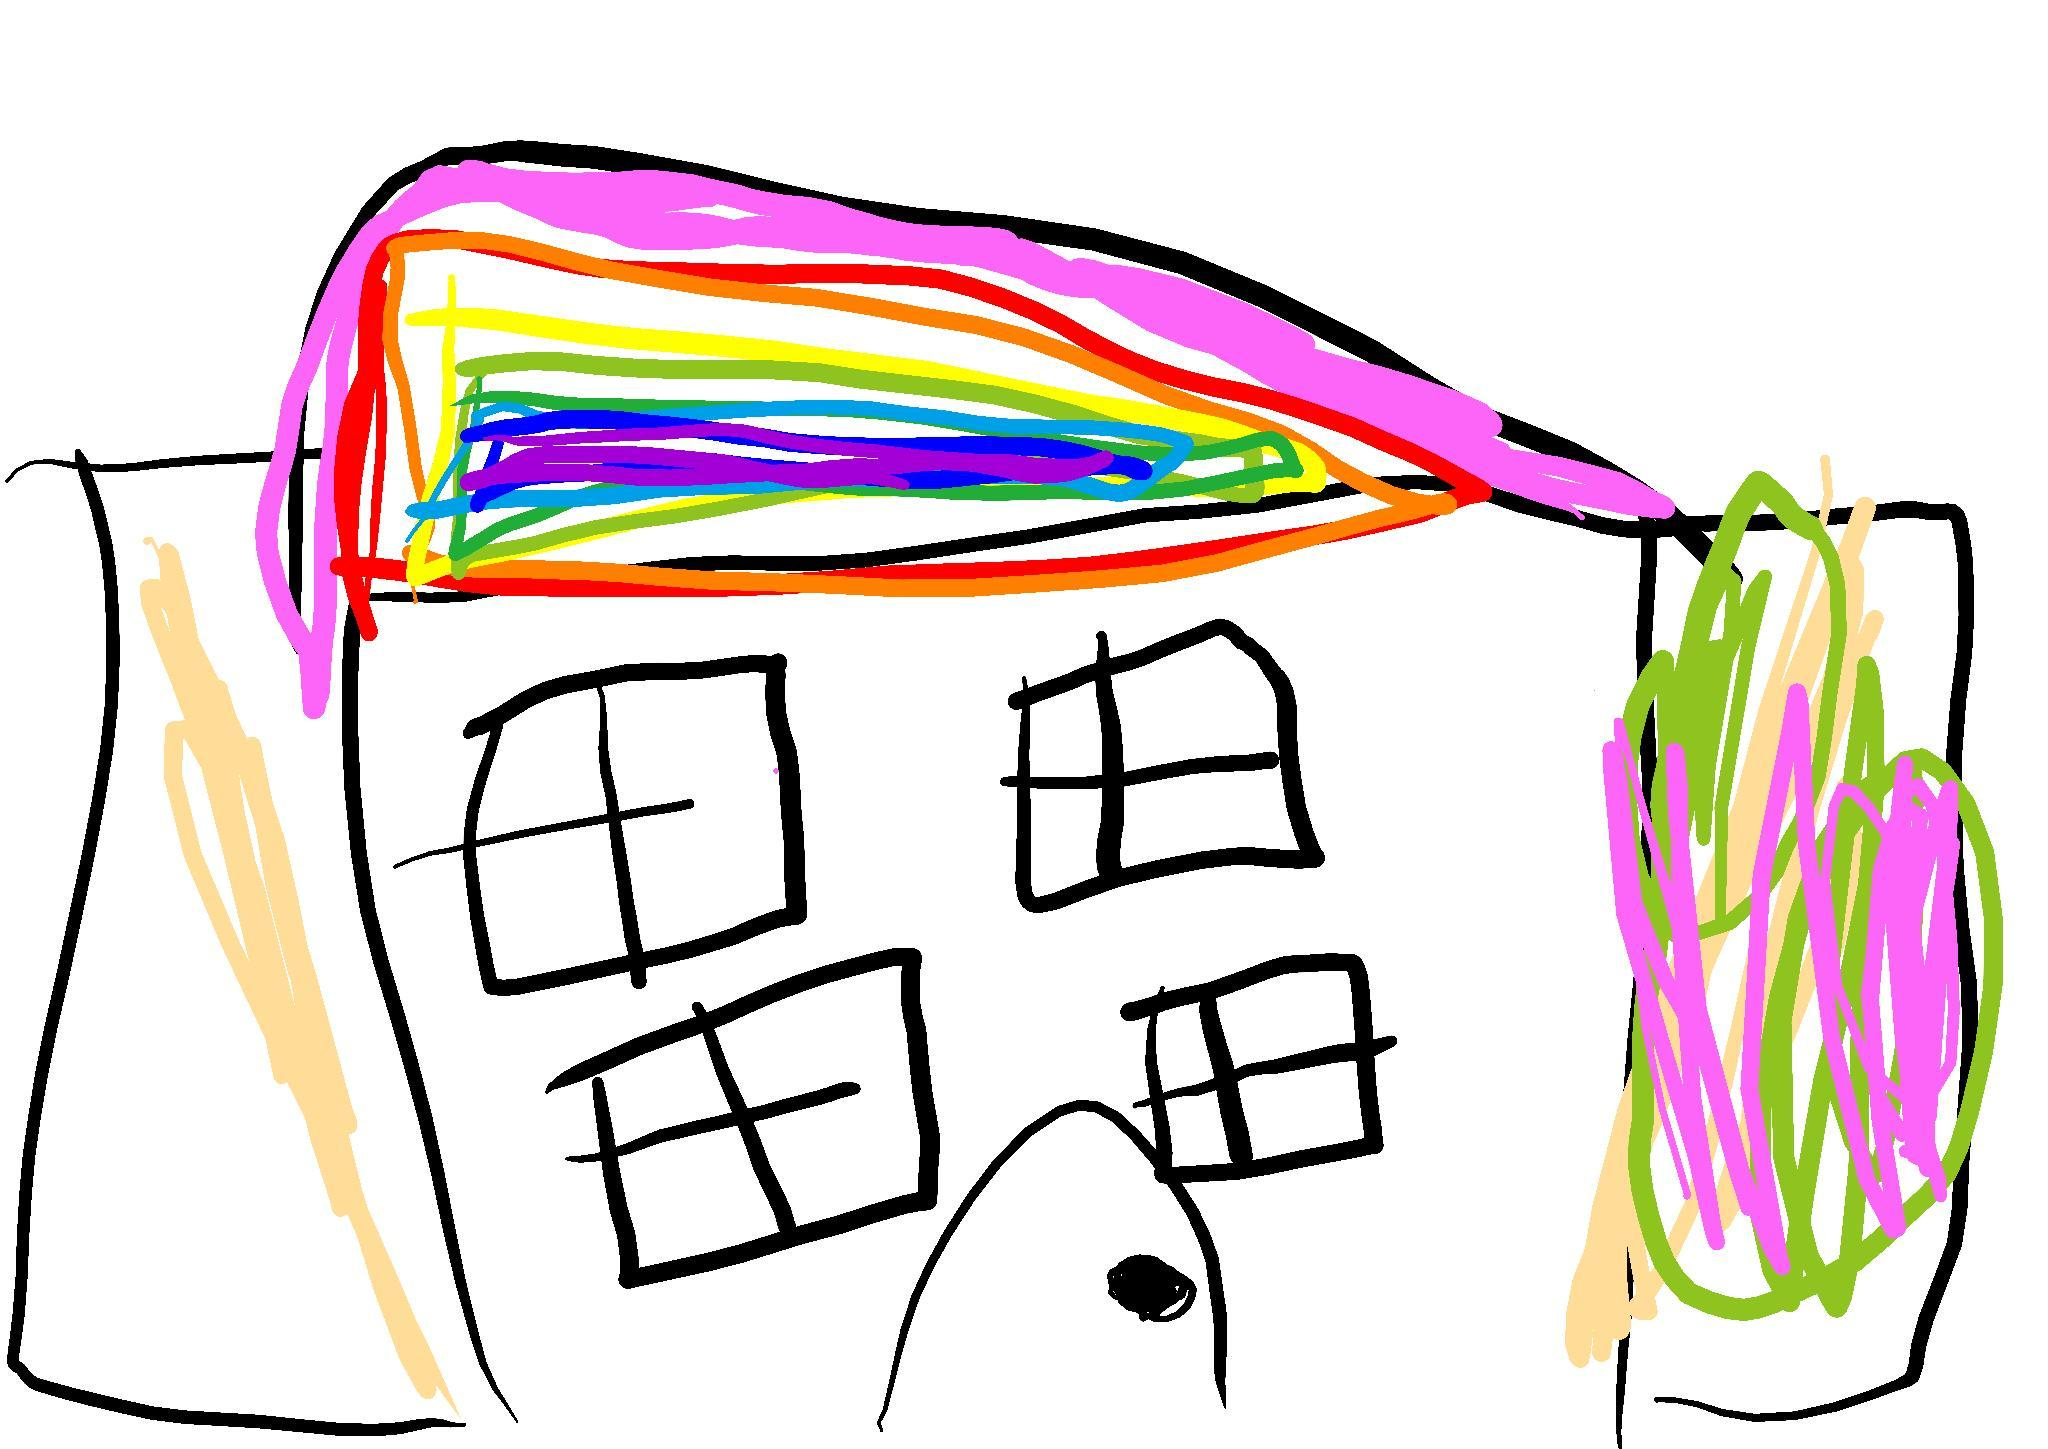door: (886, 1113, 1229, 1447)
house: (296, 125, 1679, 1449)
roof: (260, 133, 1684, 610)
wall: (347, 470, 1664, 1449)
window: (572, 950, 939, 1291), (459, 655, 806, 996), (1008, 619, 1325, 913), (1121, 953, 1385, 1186)
